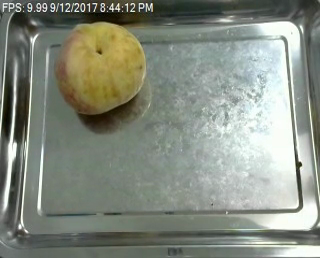Peach: (56, 21, 147, 115)
